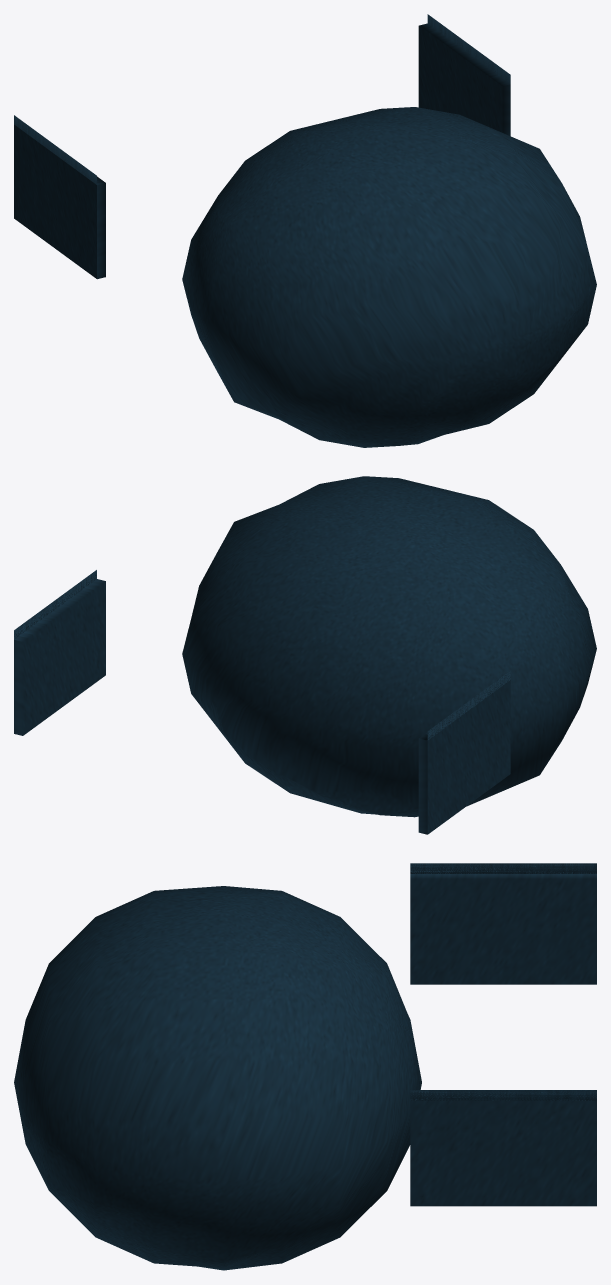
3 renders of one model, top to bottom at view 1: azimuth 30°, elevation 25°; view 2: azimuth 150°, elevation 25°; view 3: azimuth 270°, elevation 25°, orthographic. The views are drawn at different scales.
Size of the model in its own units: 2.3 by 1.55 by 2.5.
Materials: 1 (1 with a texture image).
